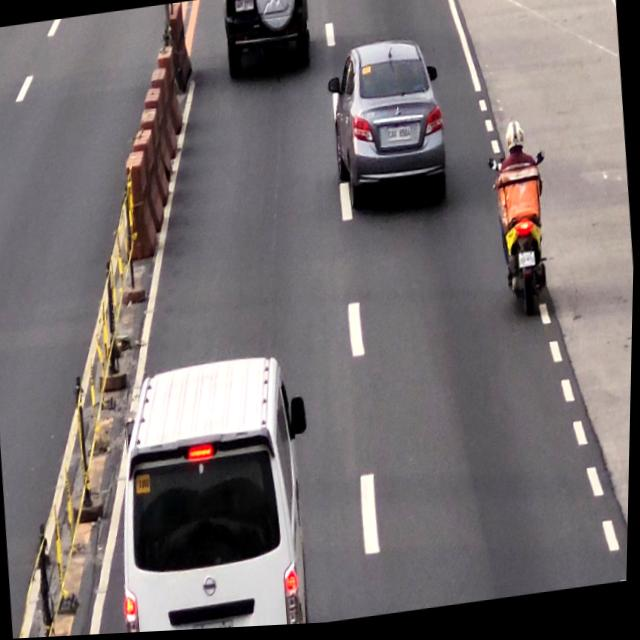Car: (116, 349, 318, 635), (326, 39, 453, 220), (226, 0, 317, 70)
License-Plate: (194, 618, 237, 632), (388, 128, 414, 145), (235, 0, 255, 14)
Motorcycle: (490, 124, 553, 328)
